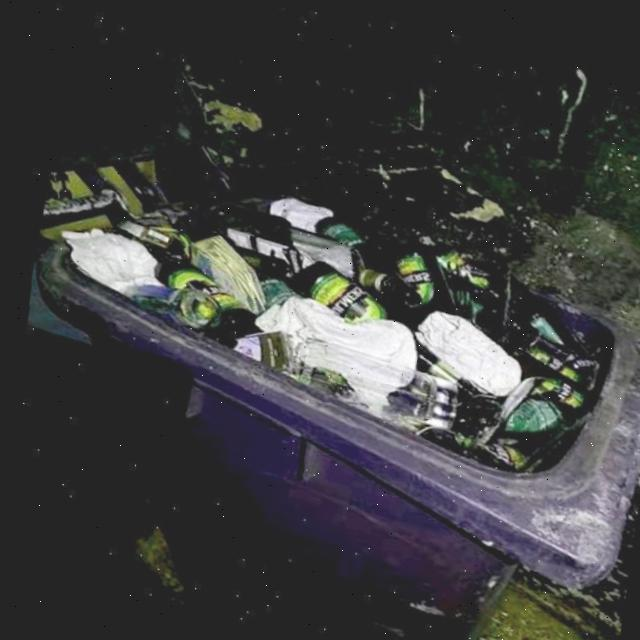Garbage: (15, 202, 640, 640), (43, 2, 640, 335)
Glass_bottle: (148, 255, 248, 341), (282, 259, 377, 320), (387, 242, 431, 304)
can: (457, 374, 580, 469)
